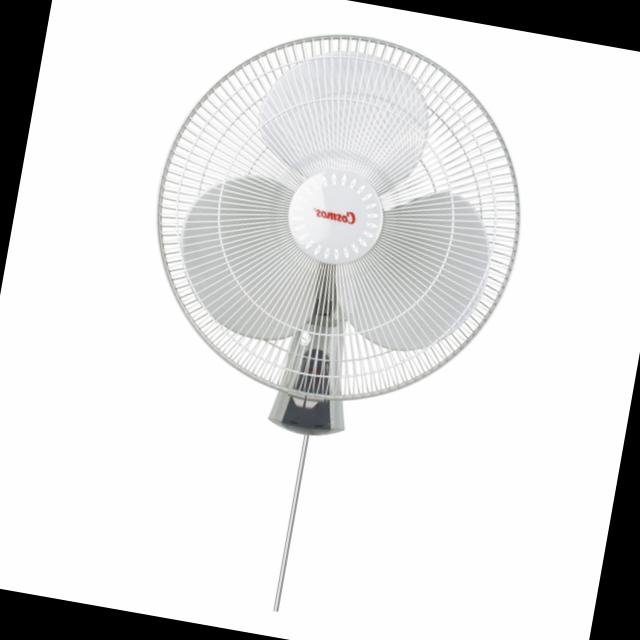fan: (113, 0, 560, 473)
